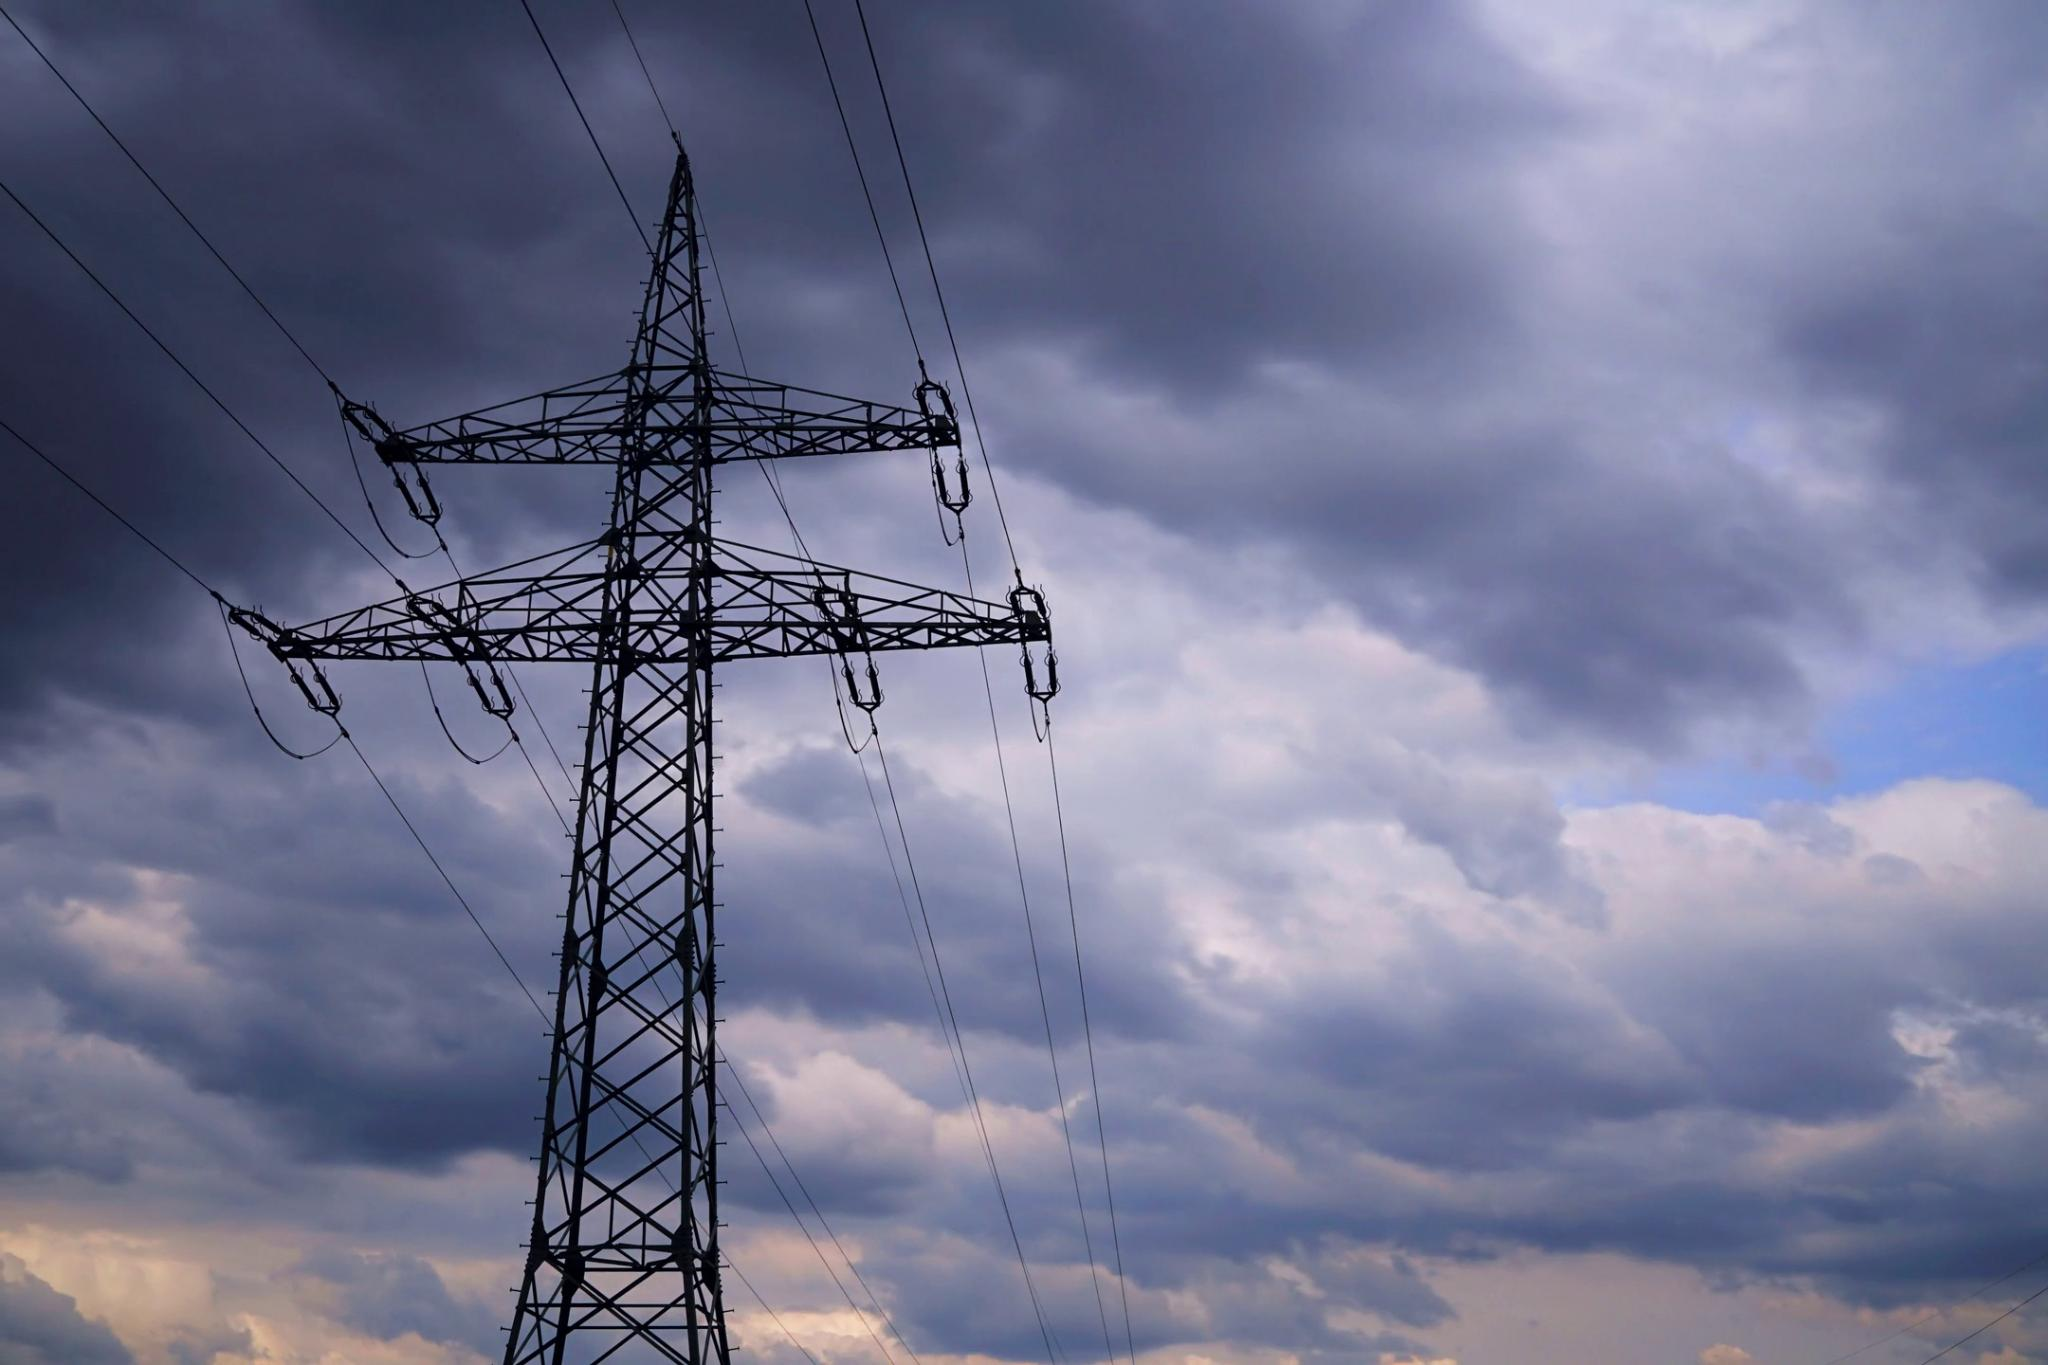cable tower: (260, 146, 1054, 1365)
